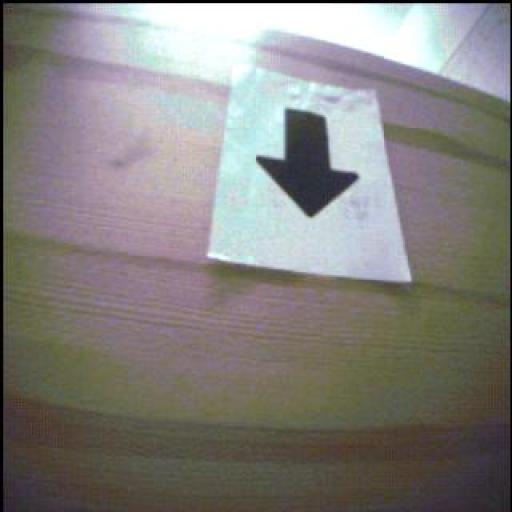Arrow: (257, 110, 359, 219)
